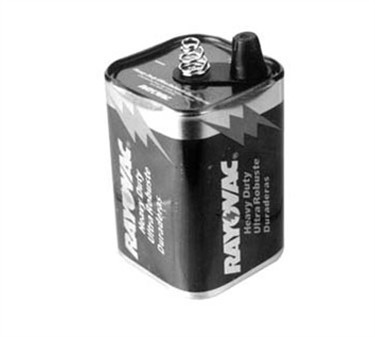6V: (85, 23, 303, 303)
